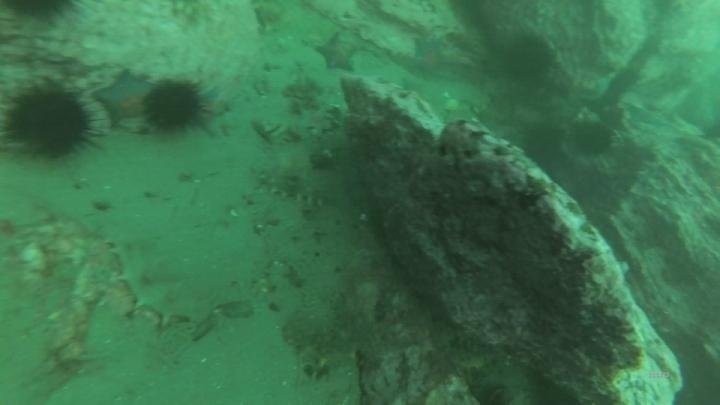echinus: (2, 80, 99, 162), (140, 76, 211, 137), (499, 31, 556, 85), (519, 122, 567, 173), (1, 1, 85, 28), (569, 118, 616, 159)
holothurian: (96, 222, 211, 333), (249, 159, 339, 209)
starfish: (93, 68, 157, 130), (312, 30, 360, 75), (408, 33, 453, 79)
